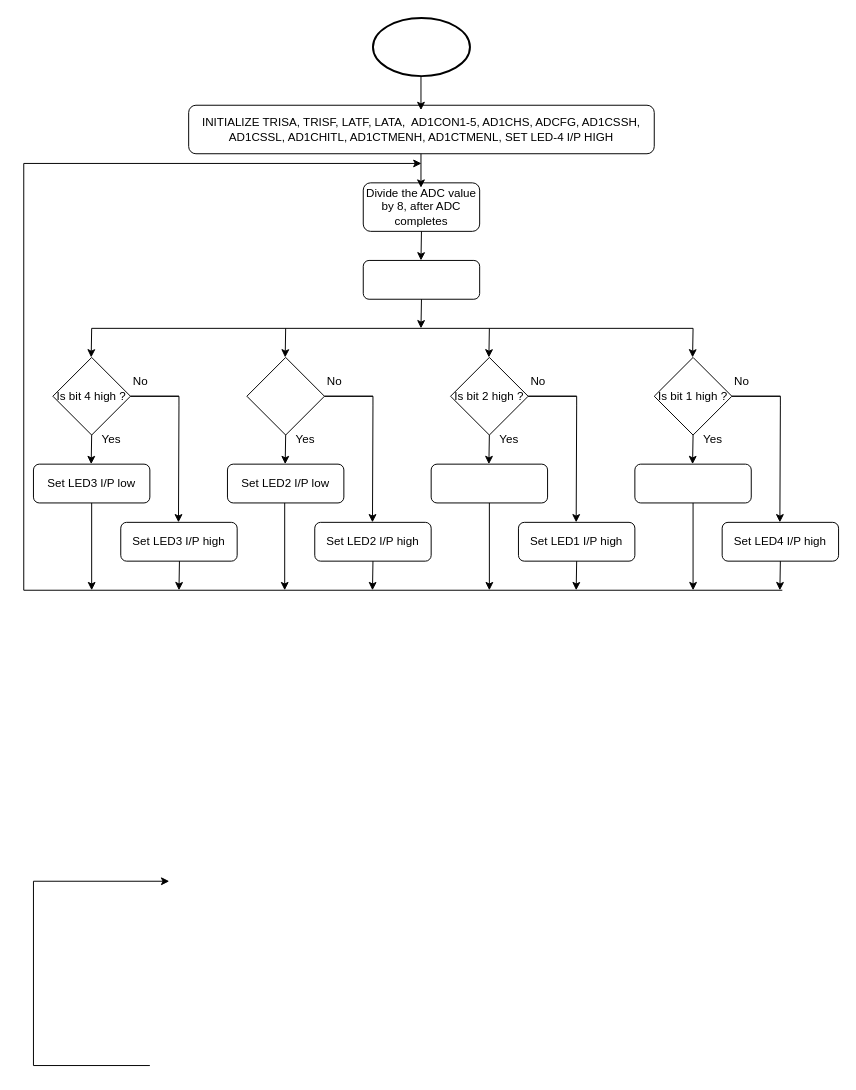
Image size: 856x1090. Some labels were removed from this diagram. The centre of each missing label's shape, as x and y in pixels:
"Filter the 4 bit value using masks" goes at point 421,279.
"Is bit 3 high ?" goes at point 285,395.
"Set LED1 I/P low" goes at point 489,483.
"Set LED4 I/P low" goes at point 692,483.
"START" goes at point 421,46.
